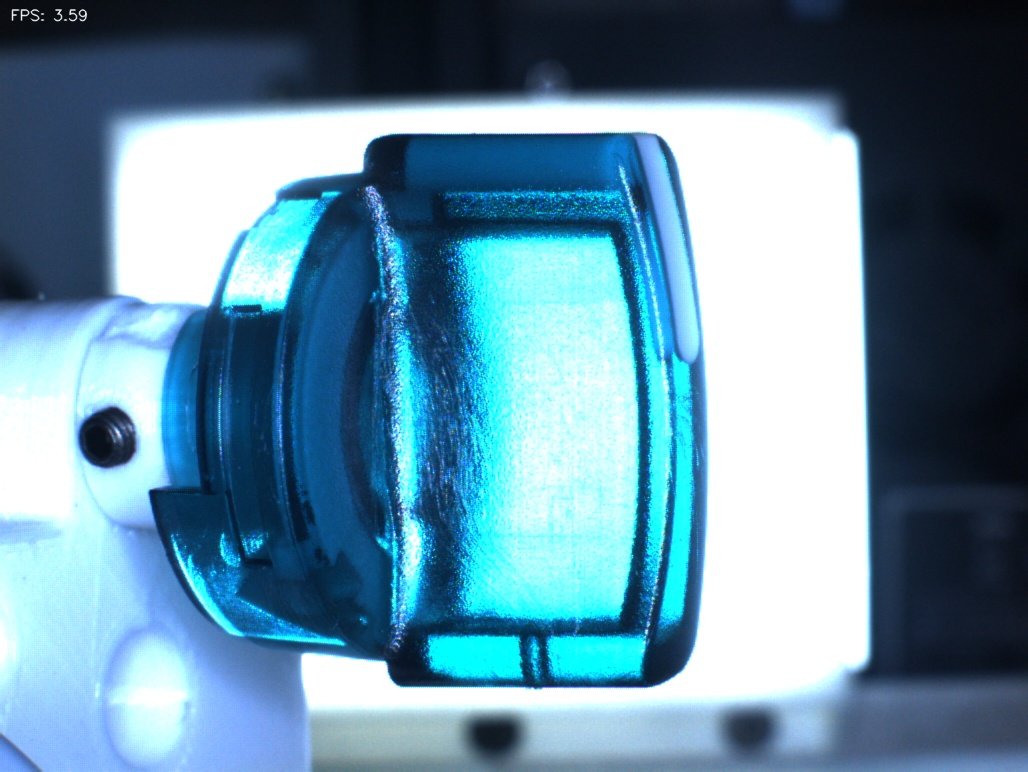Bulle: (491, 591, 580, 704)
